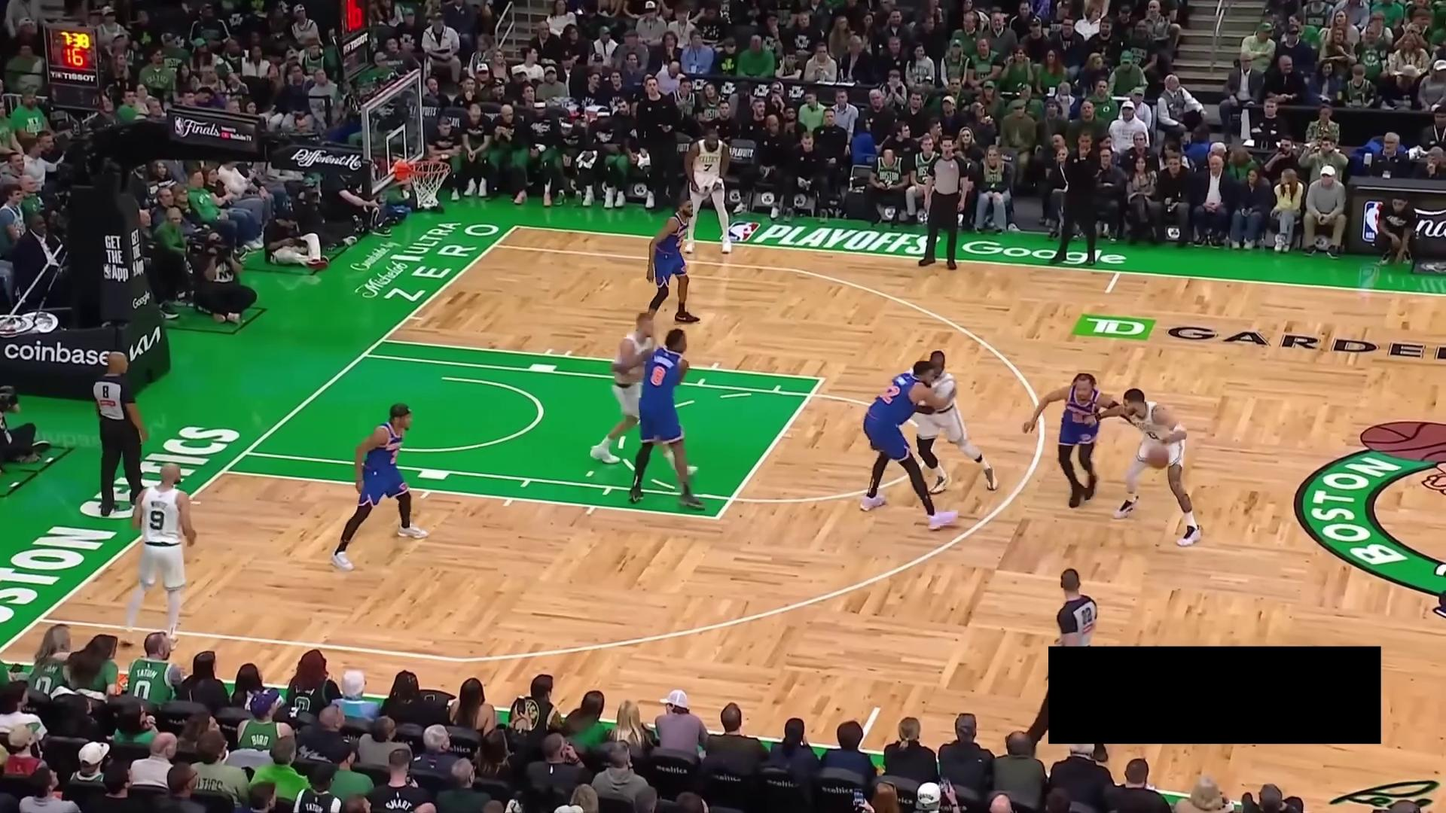ball: (1146, 444, 1170, 469)
number: (149, 510, 165, 531), (650, 365, 666, 386), (702, 162, 713, 173)
player: (589, 311, 701, 480), (330, 401, 430, 572), (860, 358, 958, 531), (117, 461, 197, 653), (1022, 371, 1130, 508), (627, 325, 706, 510), (912, 350, 999, 495), (643, 196, 702, 330), (681, 126, 734, 255)
player-in-possession: (1083, 388, 1203, 547)
referee: (1013, 568, 1109, 764), (91, 351, 148, 517), (917, 134, 969, 271)
rim: (408, 160, 451, 175)
